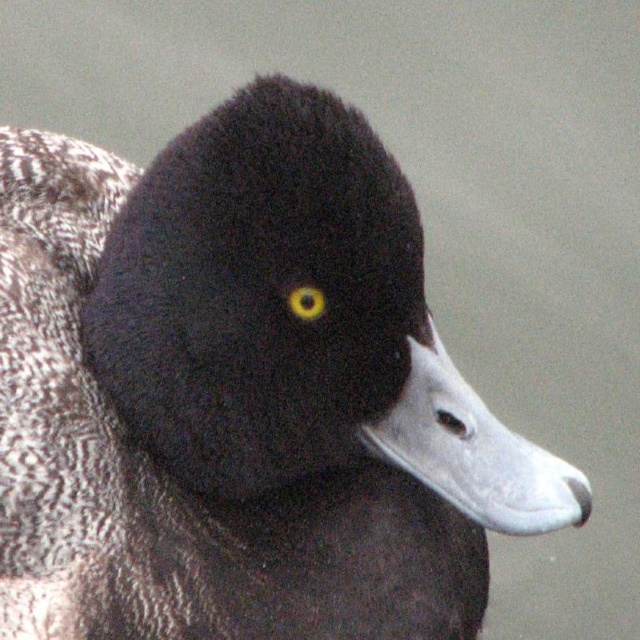Duck: (24, 78, 596, 611)
